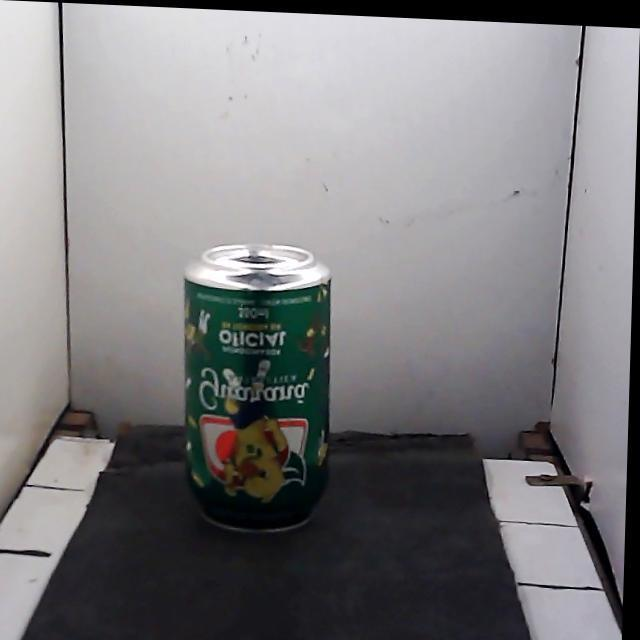metal: (184, 244, 331, 529)
